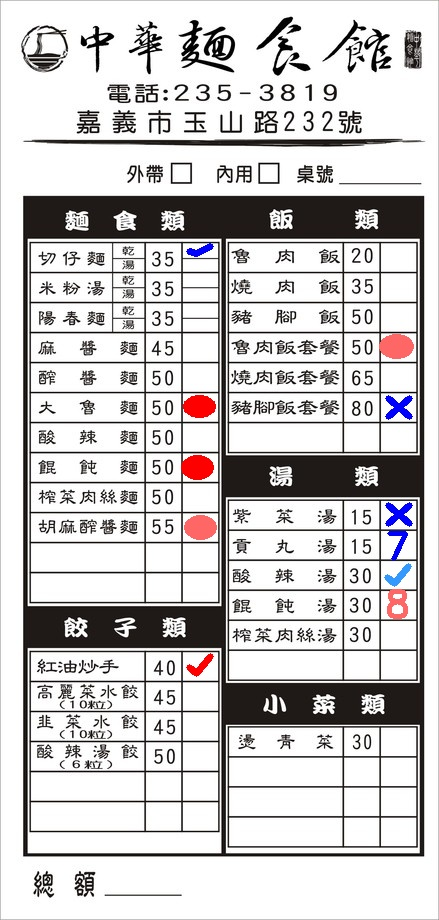marked_item: (179, 453, 215, 482), (380, 561, 416, 590), (181, 392, 217, 421), (380, 589, 416, 618), (380, 531, 416, 560), (381, 500, 417, 529), (381, 393, 417, 422), (378, 332, 414, 361), (181, 512, 217, 541), (182, 651, 218, 680), (183, 244, 217, 257)
